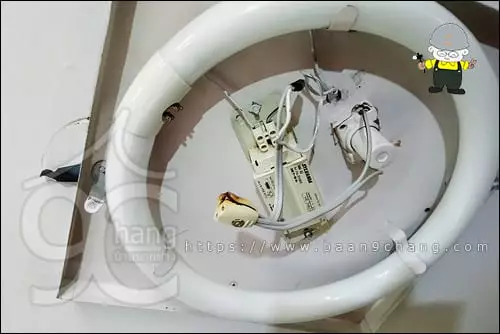Light_bulb: (103, 2, 500, 330)
